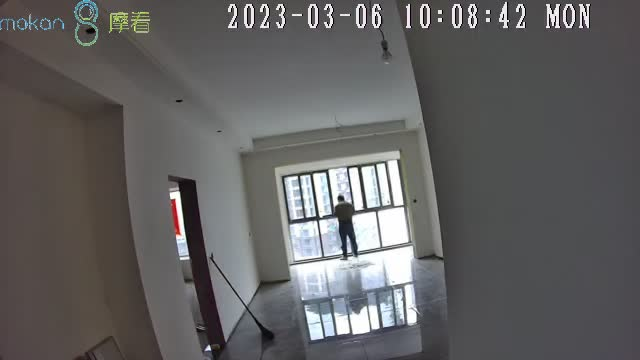people: (334, 195, 359, 262)
window: (280, 158, 407, 263)
